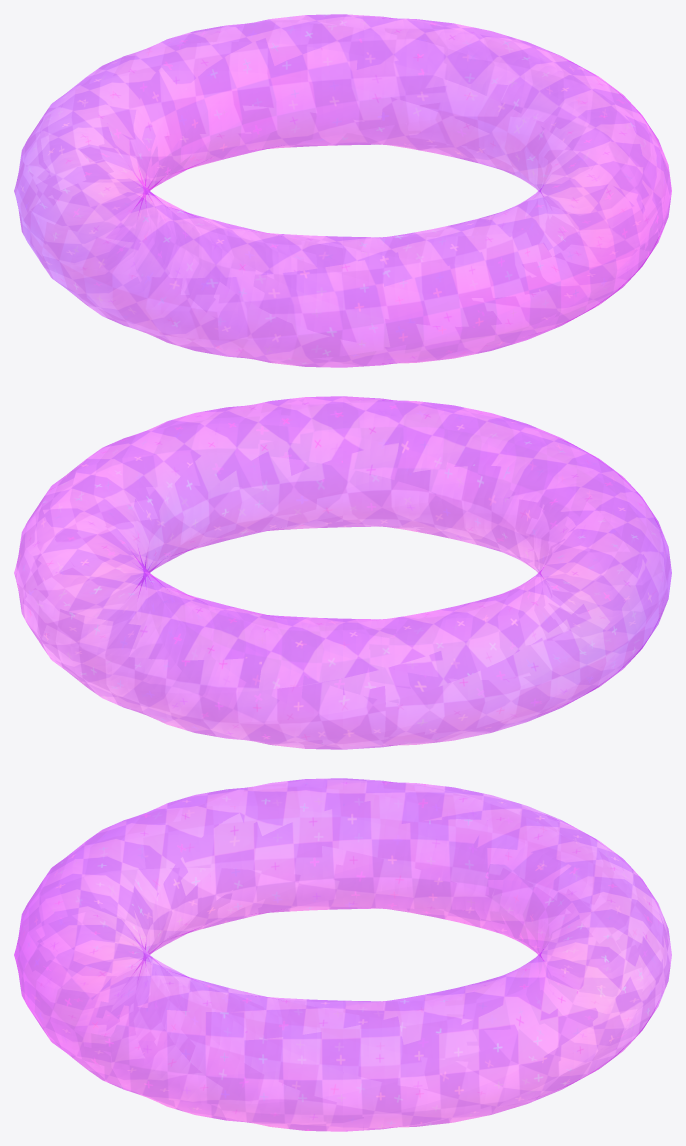
Rendered from TwistedTorus.gltf.
The picture shows the model from 3 angles, top to bottom: view 1: azimuth 30°, elevation 25°; view 2: azimuth 150°, elevation 25°; view 3: azimuth 270°, elevation 25°; orthographic projection.
Parts seen in each view (by area): view 1: TwistedTorus; view 2: TwistedTorus; view 3: TwistedTorus.
Boxes of the visible parts, box(x1,y1,x2,y2) form: TwistedTorus: box(14, 14, 671, 367); TwistedTorus: box(14, 396, 671, 749); TwistedTorus: box(14, 778, 671, 1131).
Bounding box in the file's own units: 2.5 × 0.5 × 2.5.
Materials: 1 (1 with a texture image).
